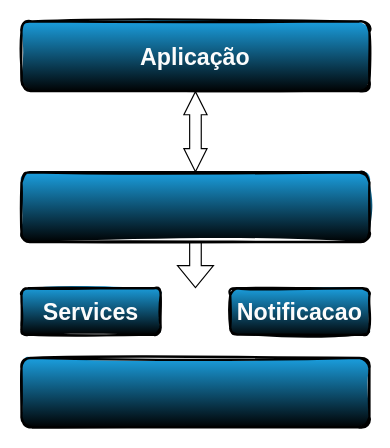
Some shapes in this 390 by 448 pixel diagram are drawn without their labels. The centre of each missing label's shape, as x and y in pixels:
APIs: (x=195, y=206)
DAO: (x=195, y=392)
